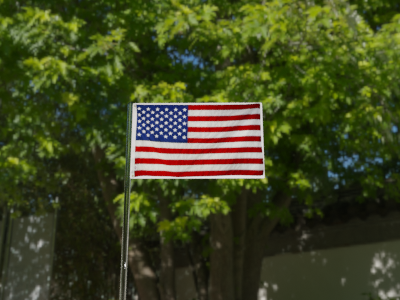America flag: (132, 101, 265, 179)
